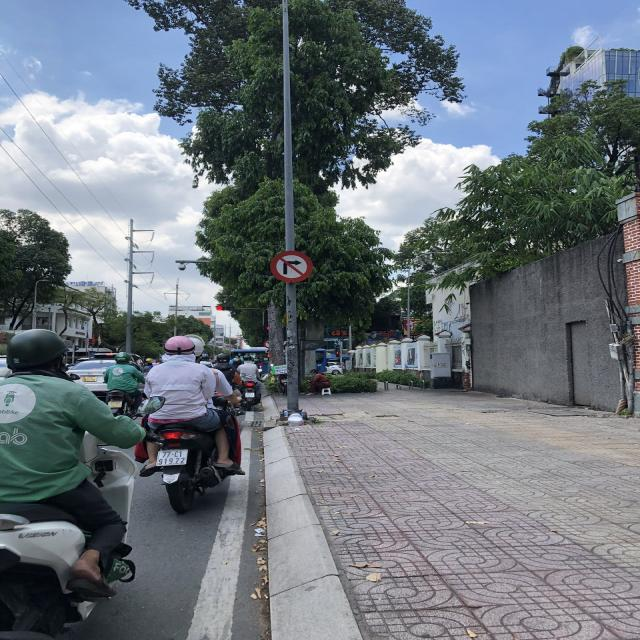Bien bao cam re phai: (270, 248, 312, 282)
